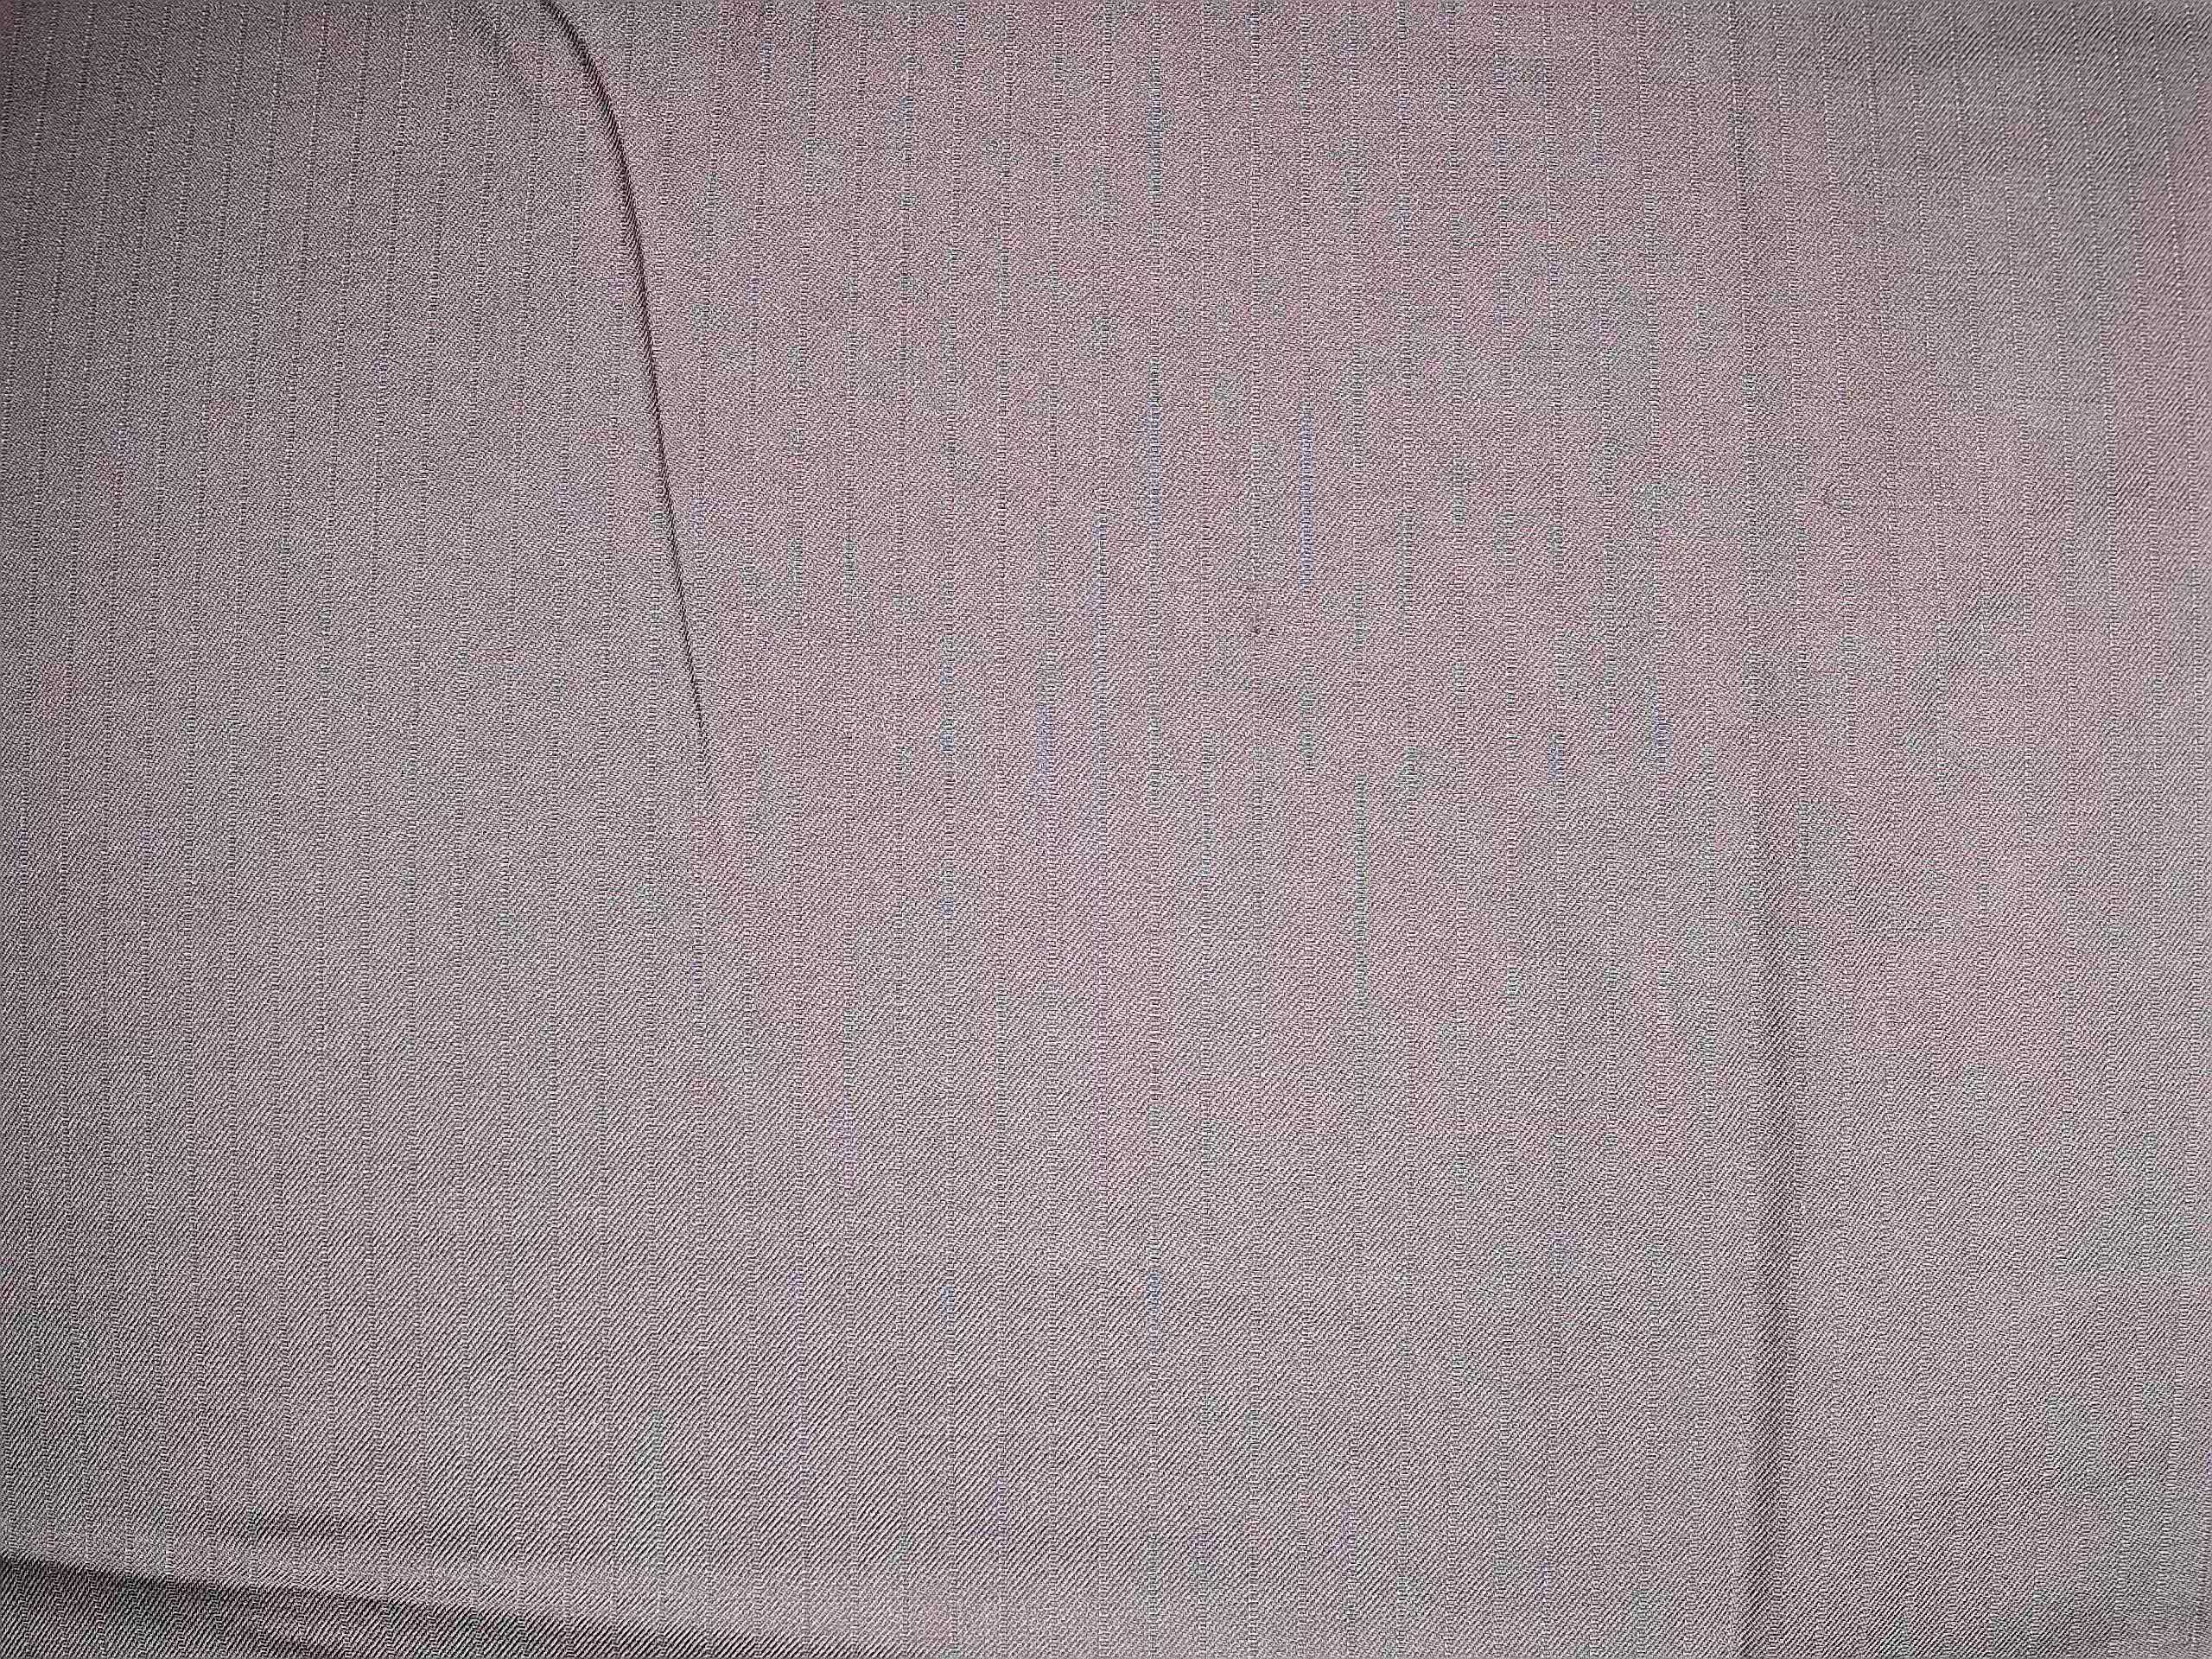hanging-warp: (1226, 544, 1285, 688)
